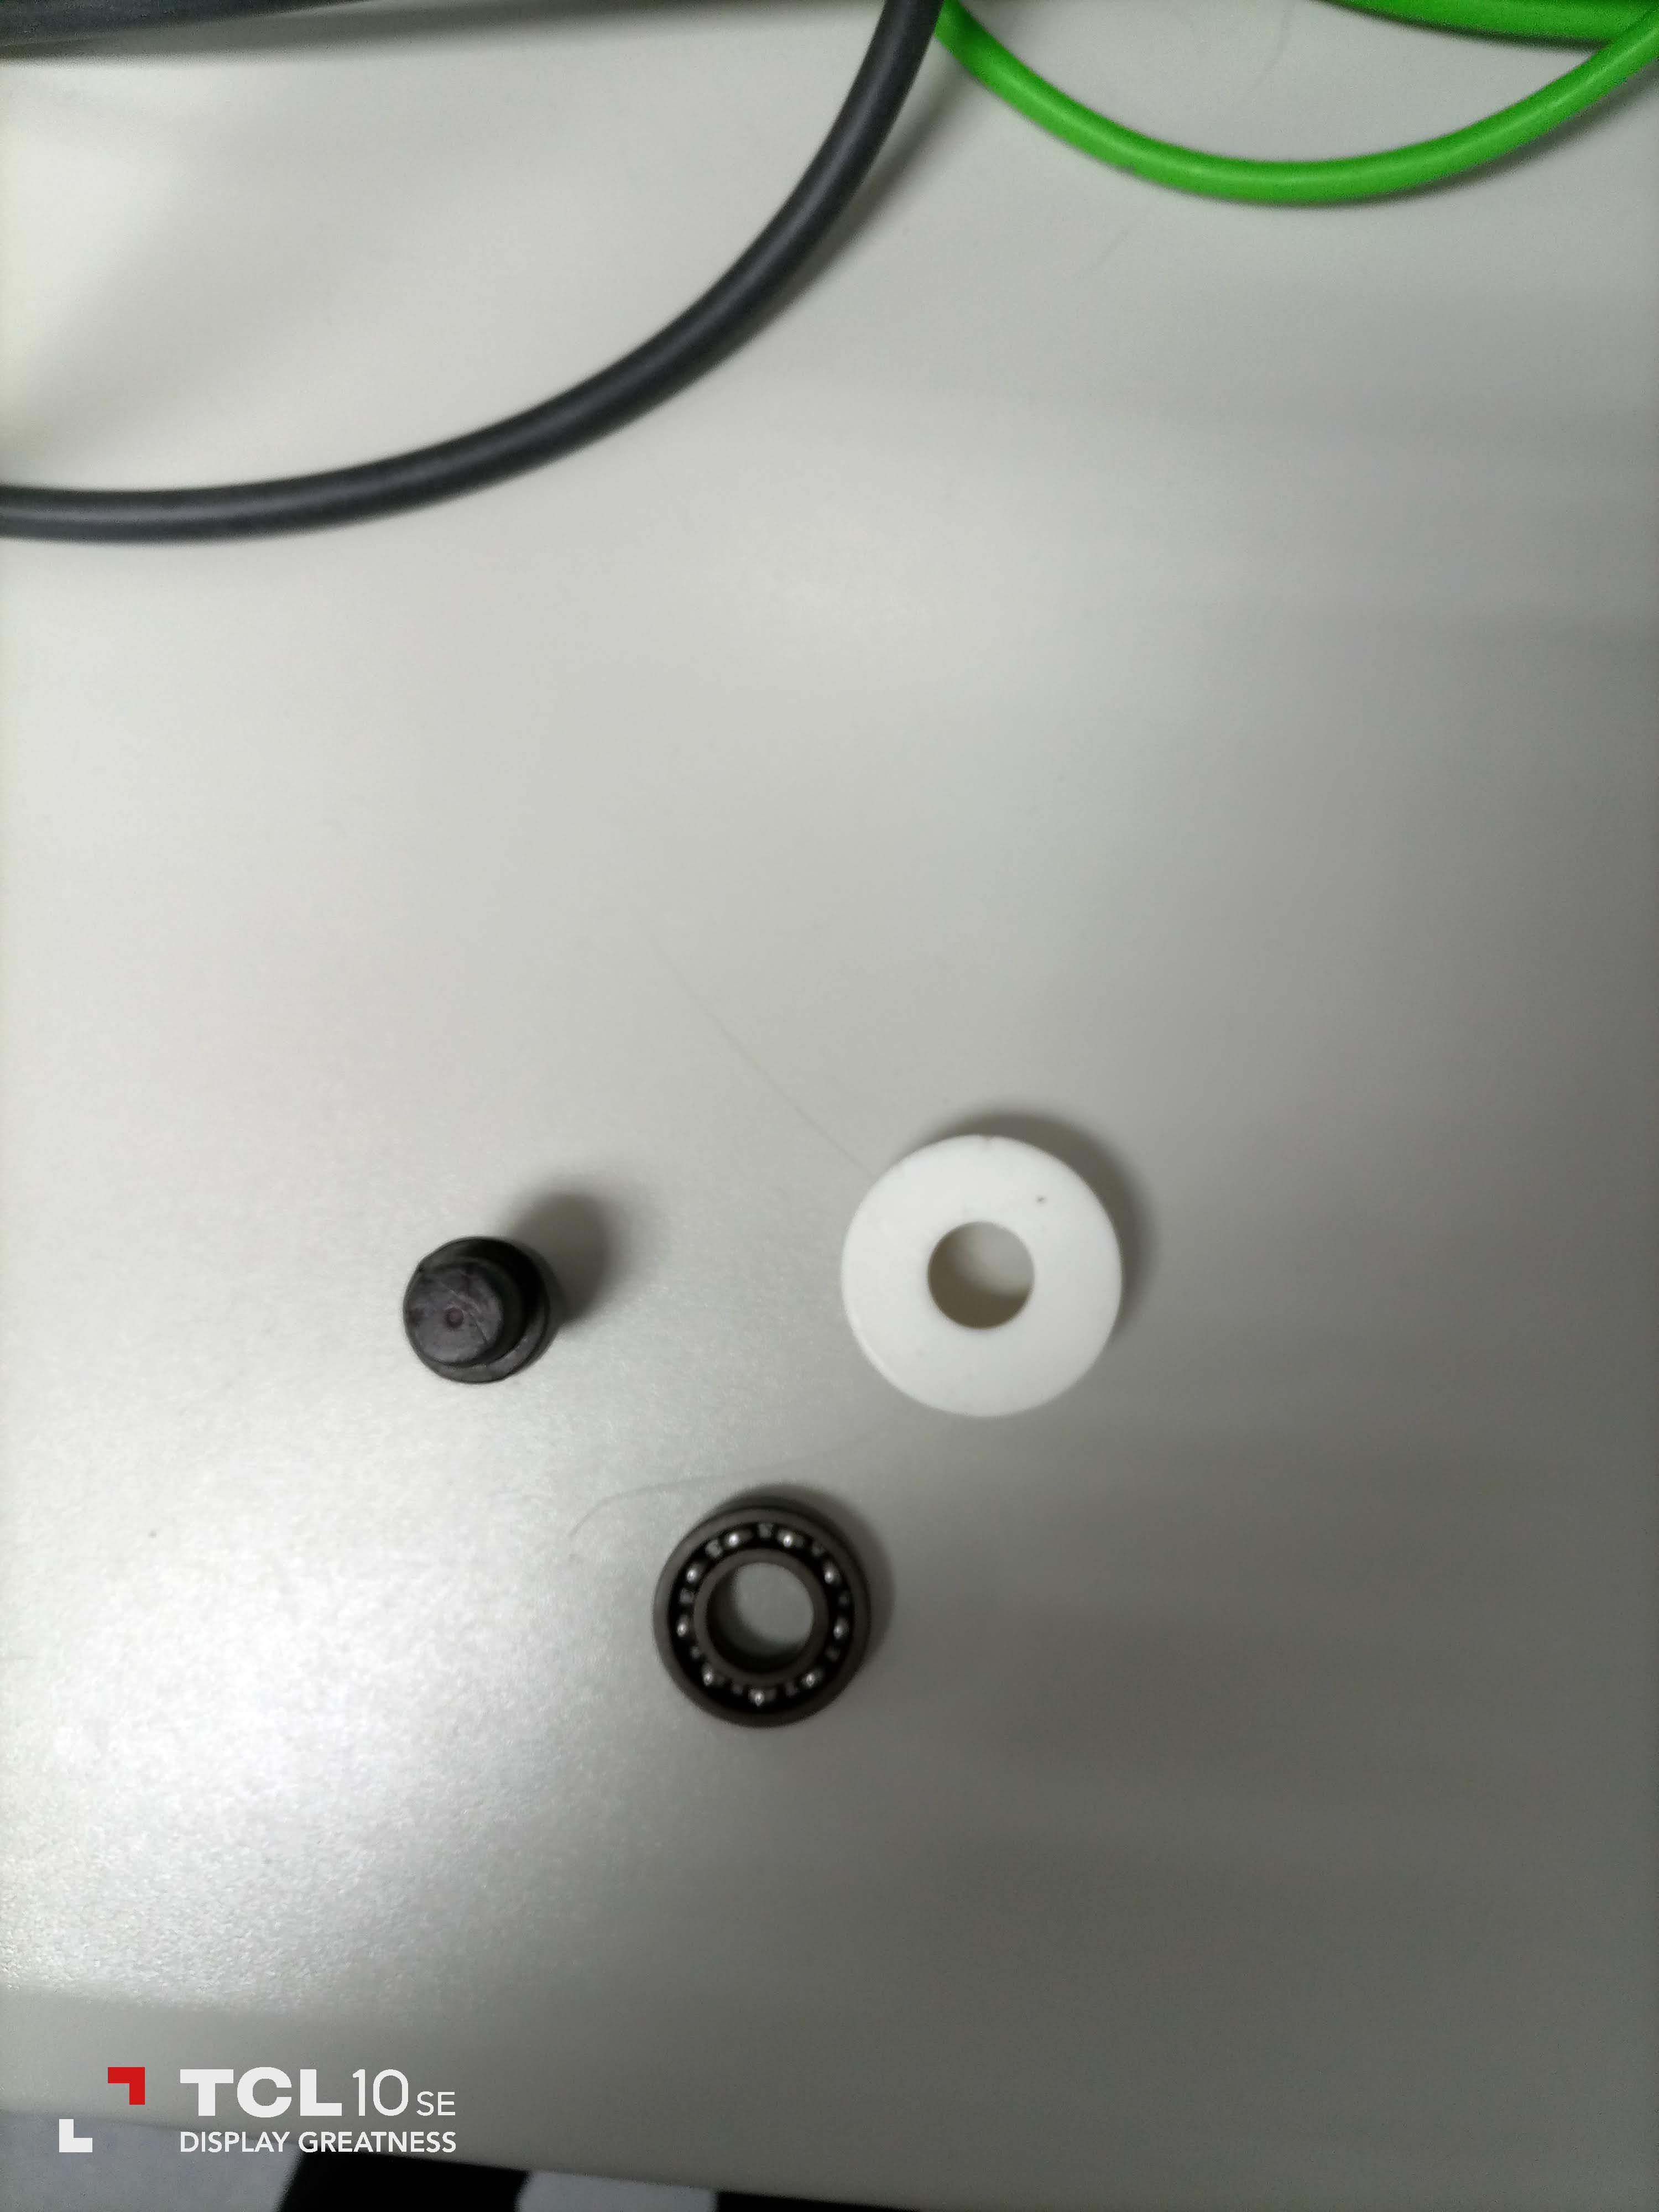Ardatza: (397, 1231, 579, 1386)
Roda: (652, 1479, 885, 1733)
Tapa: (836, 1132, 1140, 1416)
